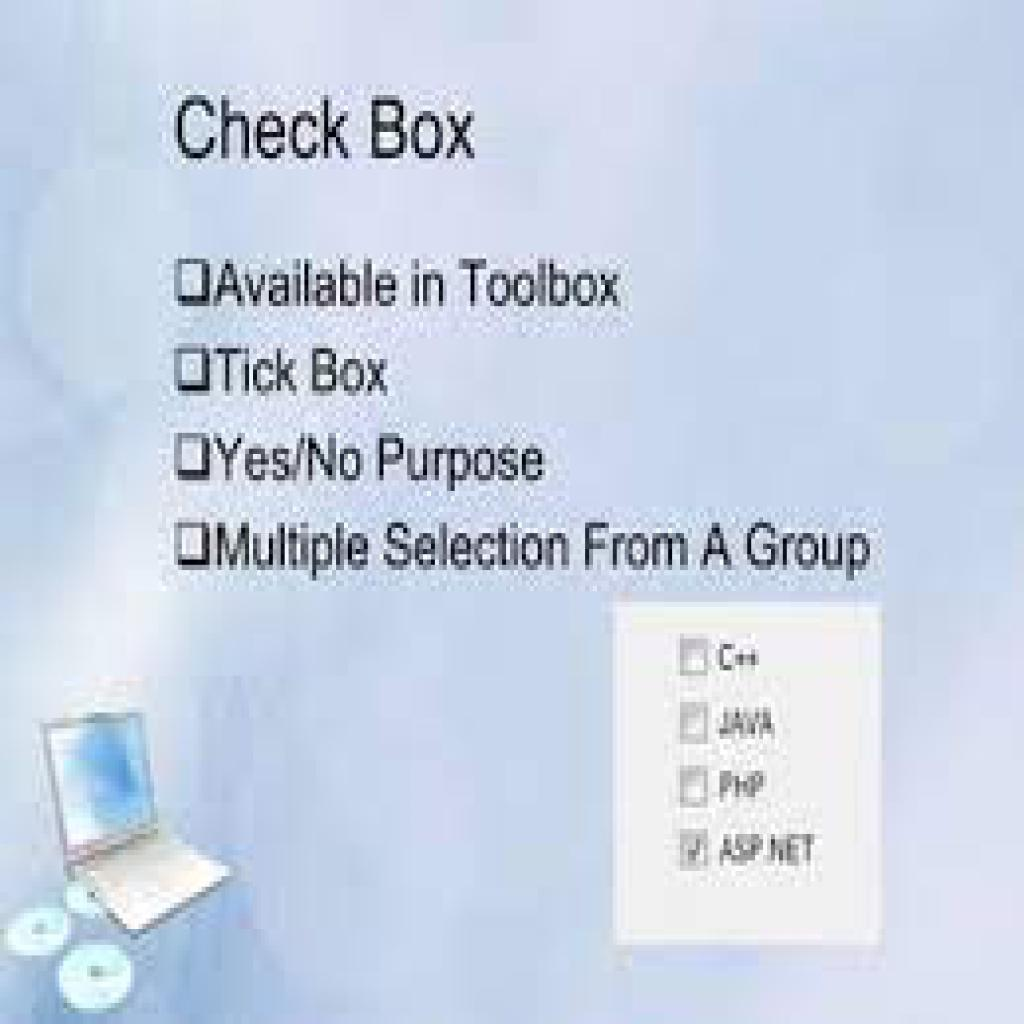checkbox: (175, 345, 210, 396), (178, 257, 211, 309), (178, 432, 212, 478), (679, 636, 711, 683), (680, 699, 712, 745), (177, 524, 211, 567), (679, 765, 711, 809), (681, 827, 712, 871)
label: (210, 513, 877, 589), (213, 246, 623, 322), (213, 430, 551, 497), (214, 333, 391, 402), (717, 823, 819, 864), (713, 701, 779, 741), (720, 766, 775, 802), (719, 639, 765, 678)
